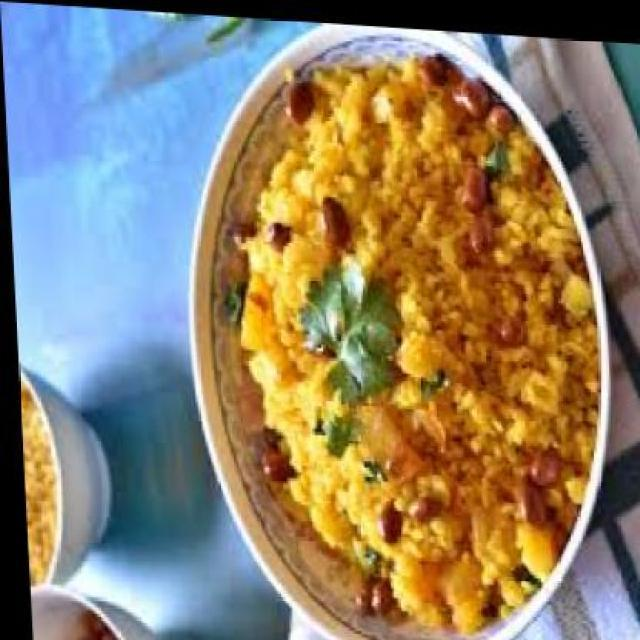poha: (218, 39, 608, 636)
